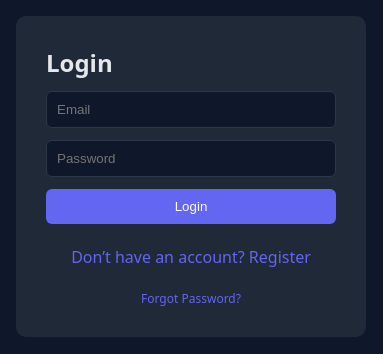
it: App Component › Navigation from Register to Login › should navigate back to login page when login link is clicked
// First navigate to register
Click the text "Don’t have an account? Register".
click(191, 256)  # box x1=71 y1=246 x2=311 y2=268
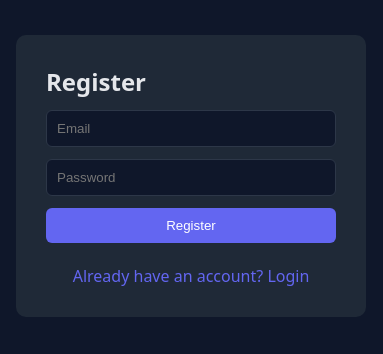
Now the heading "Register" is shown, box x1=46 y1=65 x2=146 y2=98
// Then navigate back to login
Click the text "Already have an account? Login".
click(191, 276)  # box x1=73 y1=265 x2=309 y2=287
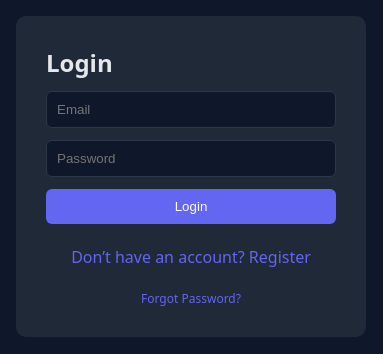
Now the heading "Login" is shown, box x1=46 y1=46 x2=113 y2=78
